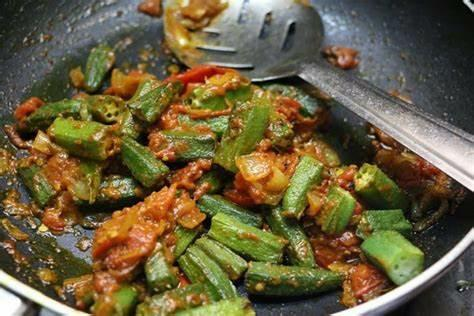BhindiMasala: (5, 44, 424, 316)
